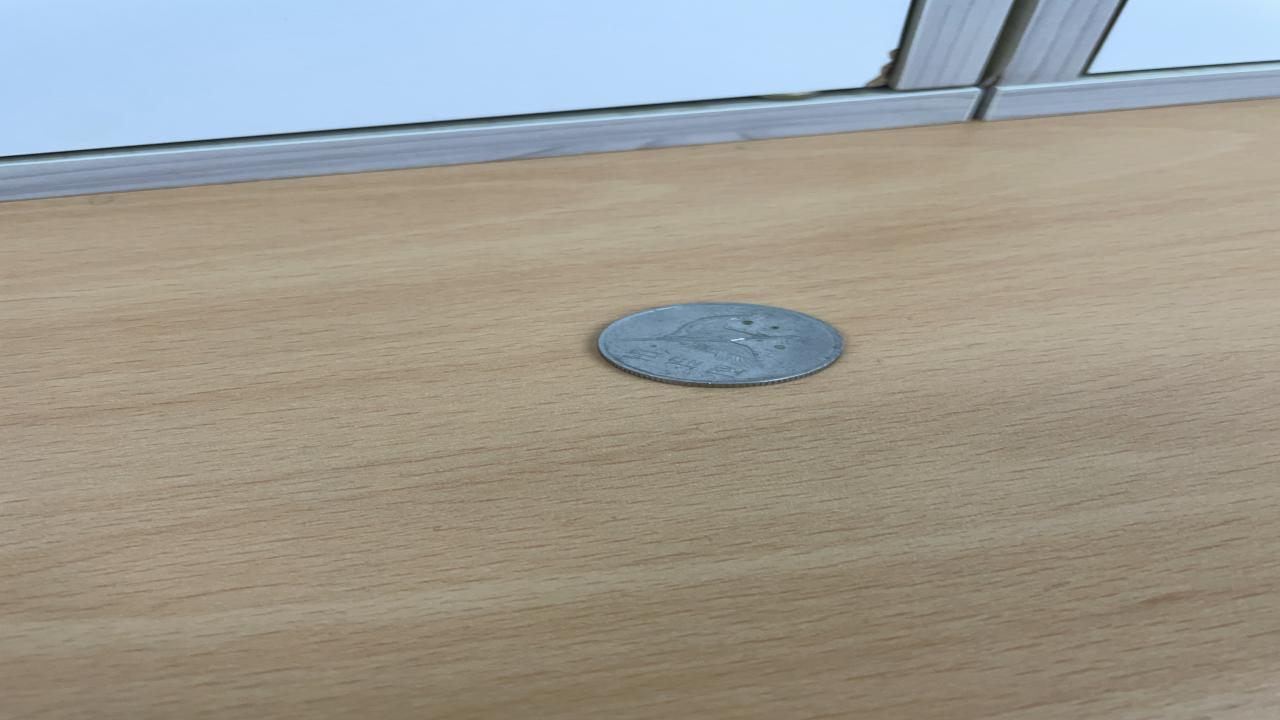coin: (589, 300, 849, 390)
